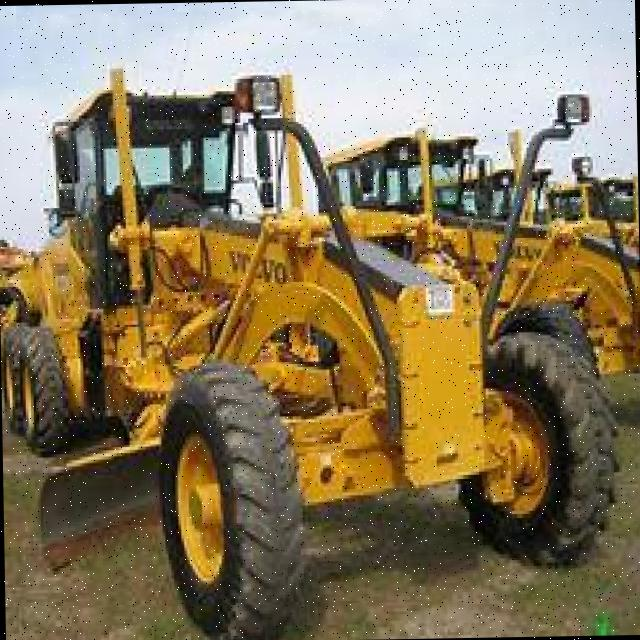Grader: (0, 62, 613, 640)
